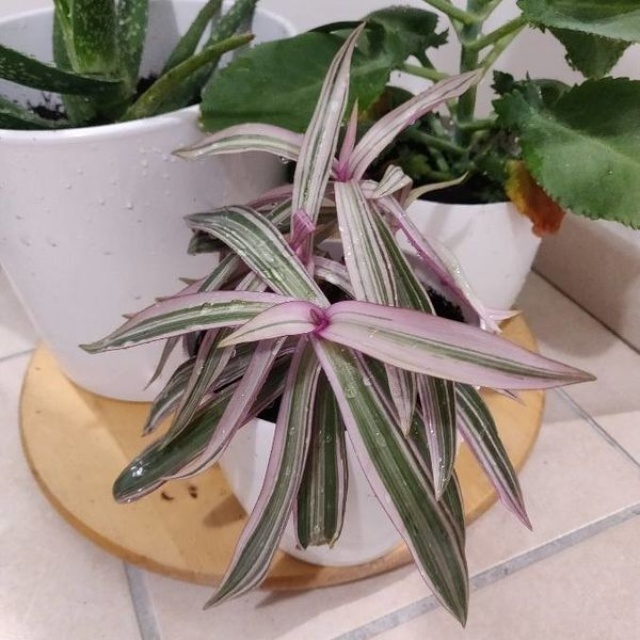obstacle: (154, 78, 490, 561), (256, 2, 639, 323), (4, 5, 220, 400)
